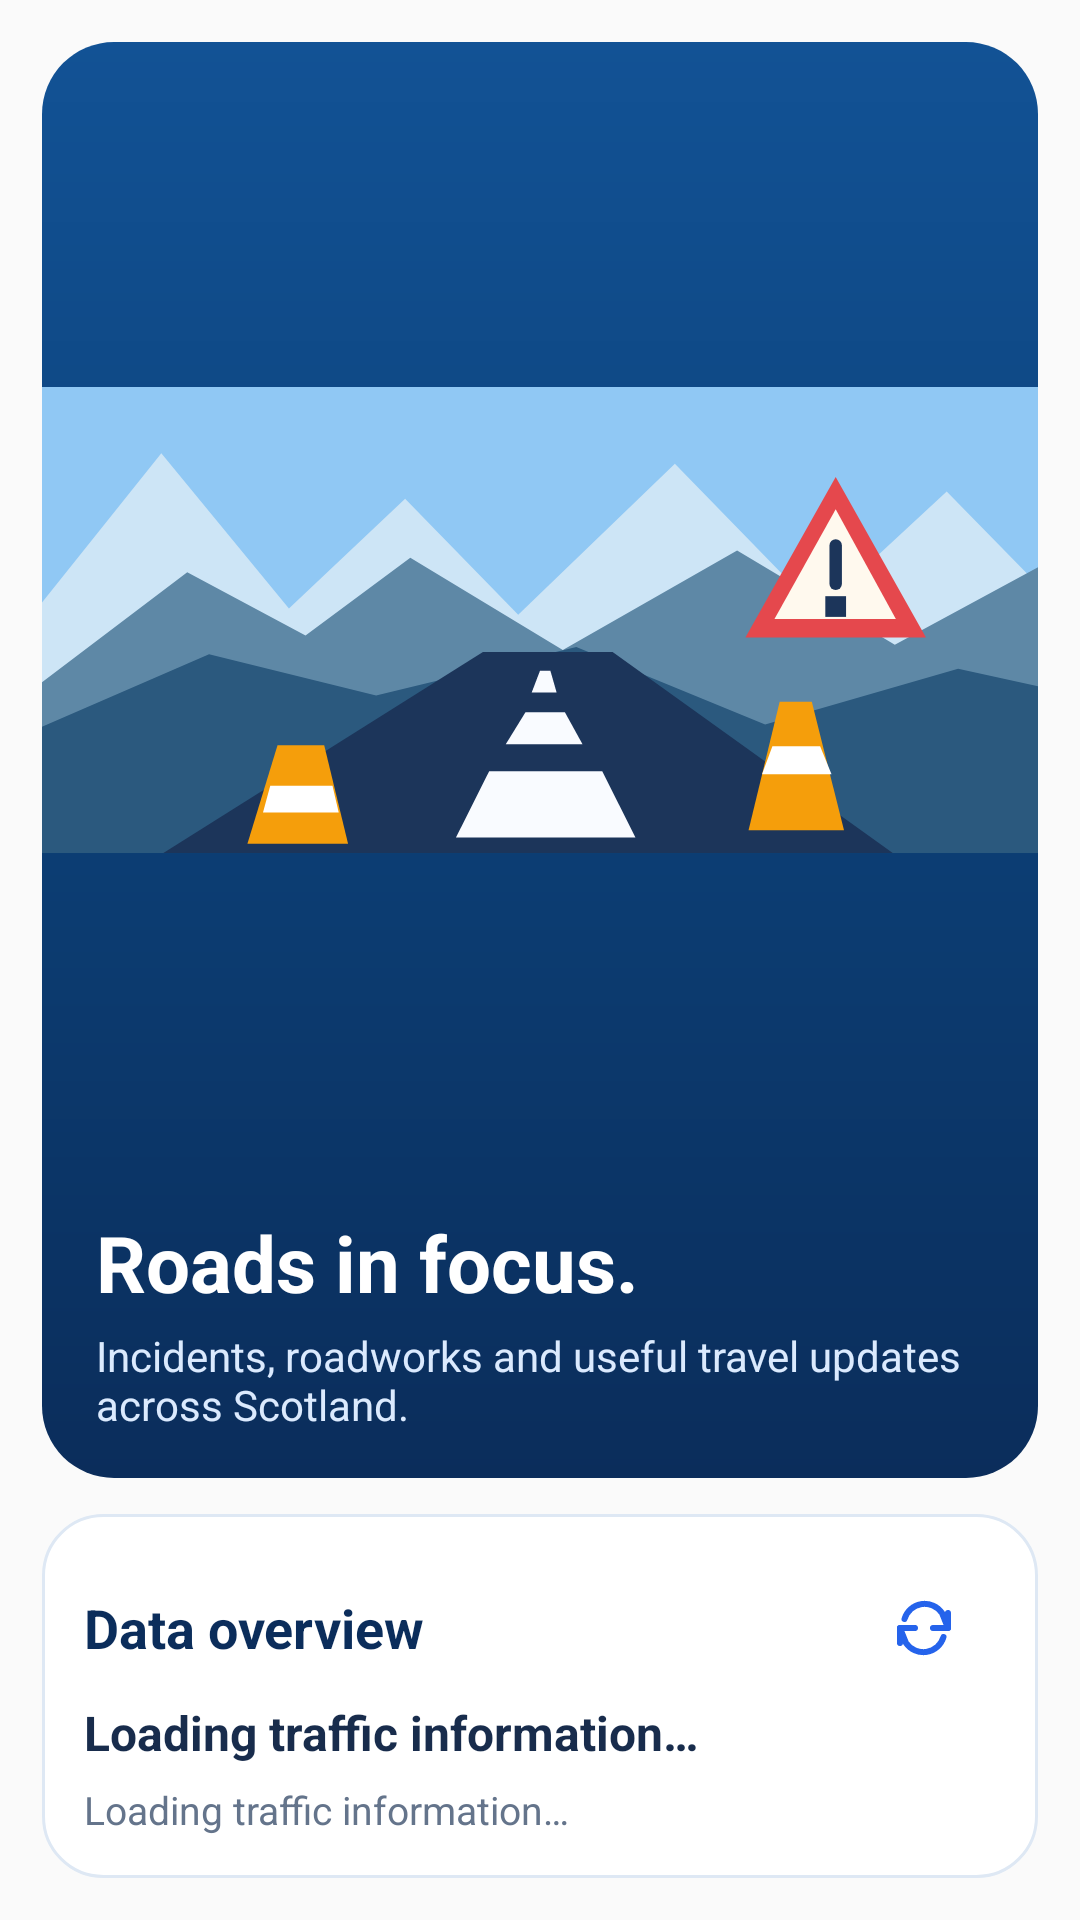

Icon bounding boxes for this 1080 × 1920 phone screenshot, format region(x1, y1, x2, y2):
Refresh traffic information: region(897, 1600, 951, 1656)
